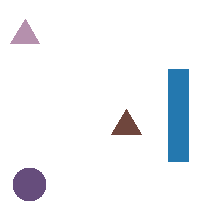circle: (13, 168, 45, 200)
rectangle: (168, 69, 188, 161)
triangle: (111, 109, 141, 134), (10, 19, 39, 43)
